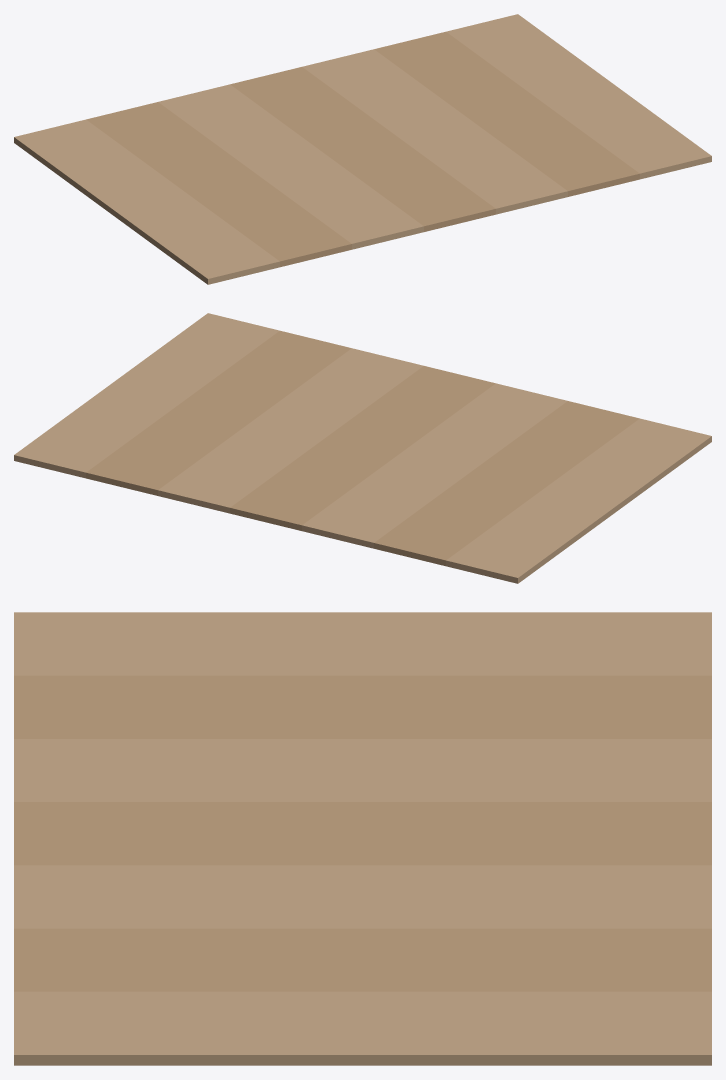
File: Carpet4_C1.fbx
3 renders of one model, top to bottom at view 1: azimuth 30°, elevation 25°; view 2: azimuth 150°, elevation 25°; view 3: azimuth 270°, elevation 25°, orthographic. The views are drawn at different scales.
Visible parts, largest first — view 1: Carpet4_C1; view 2: Carpet4_C1; view 3: Carpet4_C1.
Part boxes in pixels (<box>): Carpet4_C1: <box>14,14,711,284</box>; Carpet4_C1: <box>14,313,711,583</box>; Carpet4_C1: <box>14,612,711,1065</box>.
Size of the model in its own units: 90 by 1 by 60.
